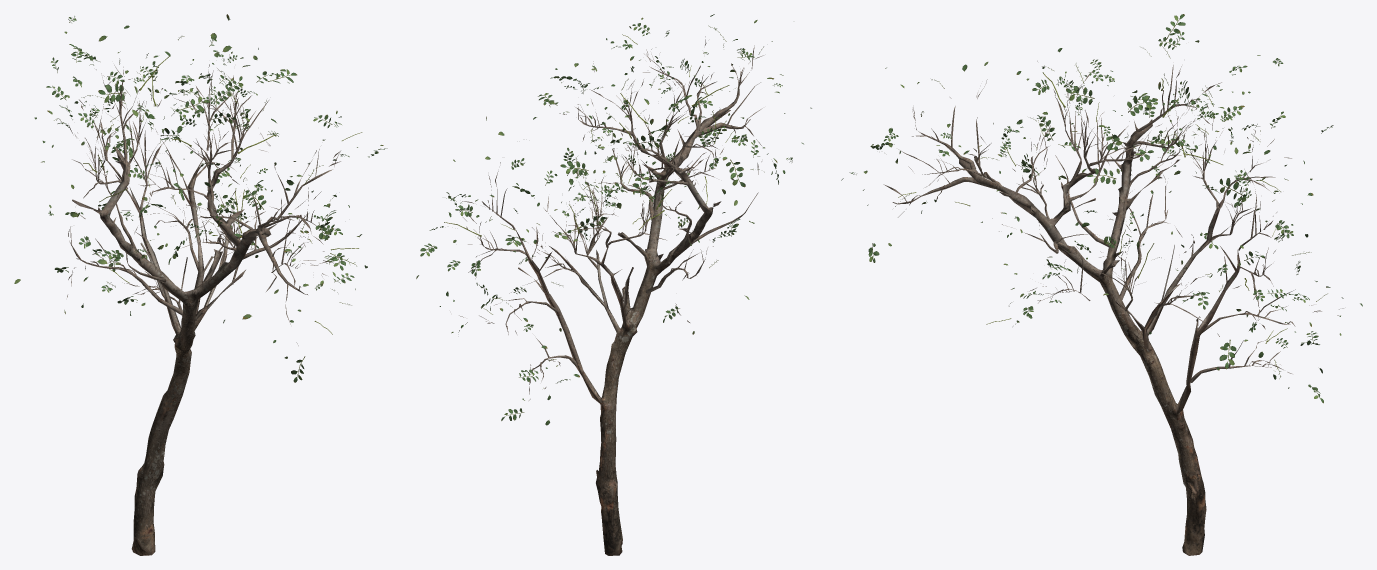
The model's file is tree-lod.glb.
3 renders of one model, left to right at view 1: azimuth 30°, elevation 25°; view 2: azimuth 150°, elevation 25°; view 3: azimuth 270°, elevation 25°, orthographic. The views are drawn at different scales.
Parts seen in each view (by area): view 1: tree_small_02_LOD0; view 2: tree_small_02_LOD0; view 3: tree_small_02_LOD0.
Part boxes in pixels (x1=…): tree_small_02_LOD0: x1=14, y1=14, x2=387, y2=555; tree_small_02_LOD0: x1=416, y1=14, x2=811, y2=555; tree_small_02_LOD0: x1=841, y1=14, x2=1362, y2=555.
Bounding box in the file's own units: 2.78 × 4.51 × 4.25.
3 materials, 3 textured.
